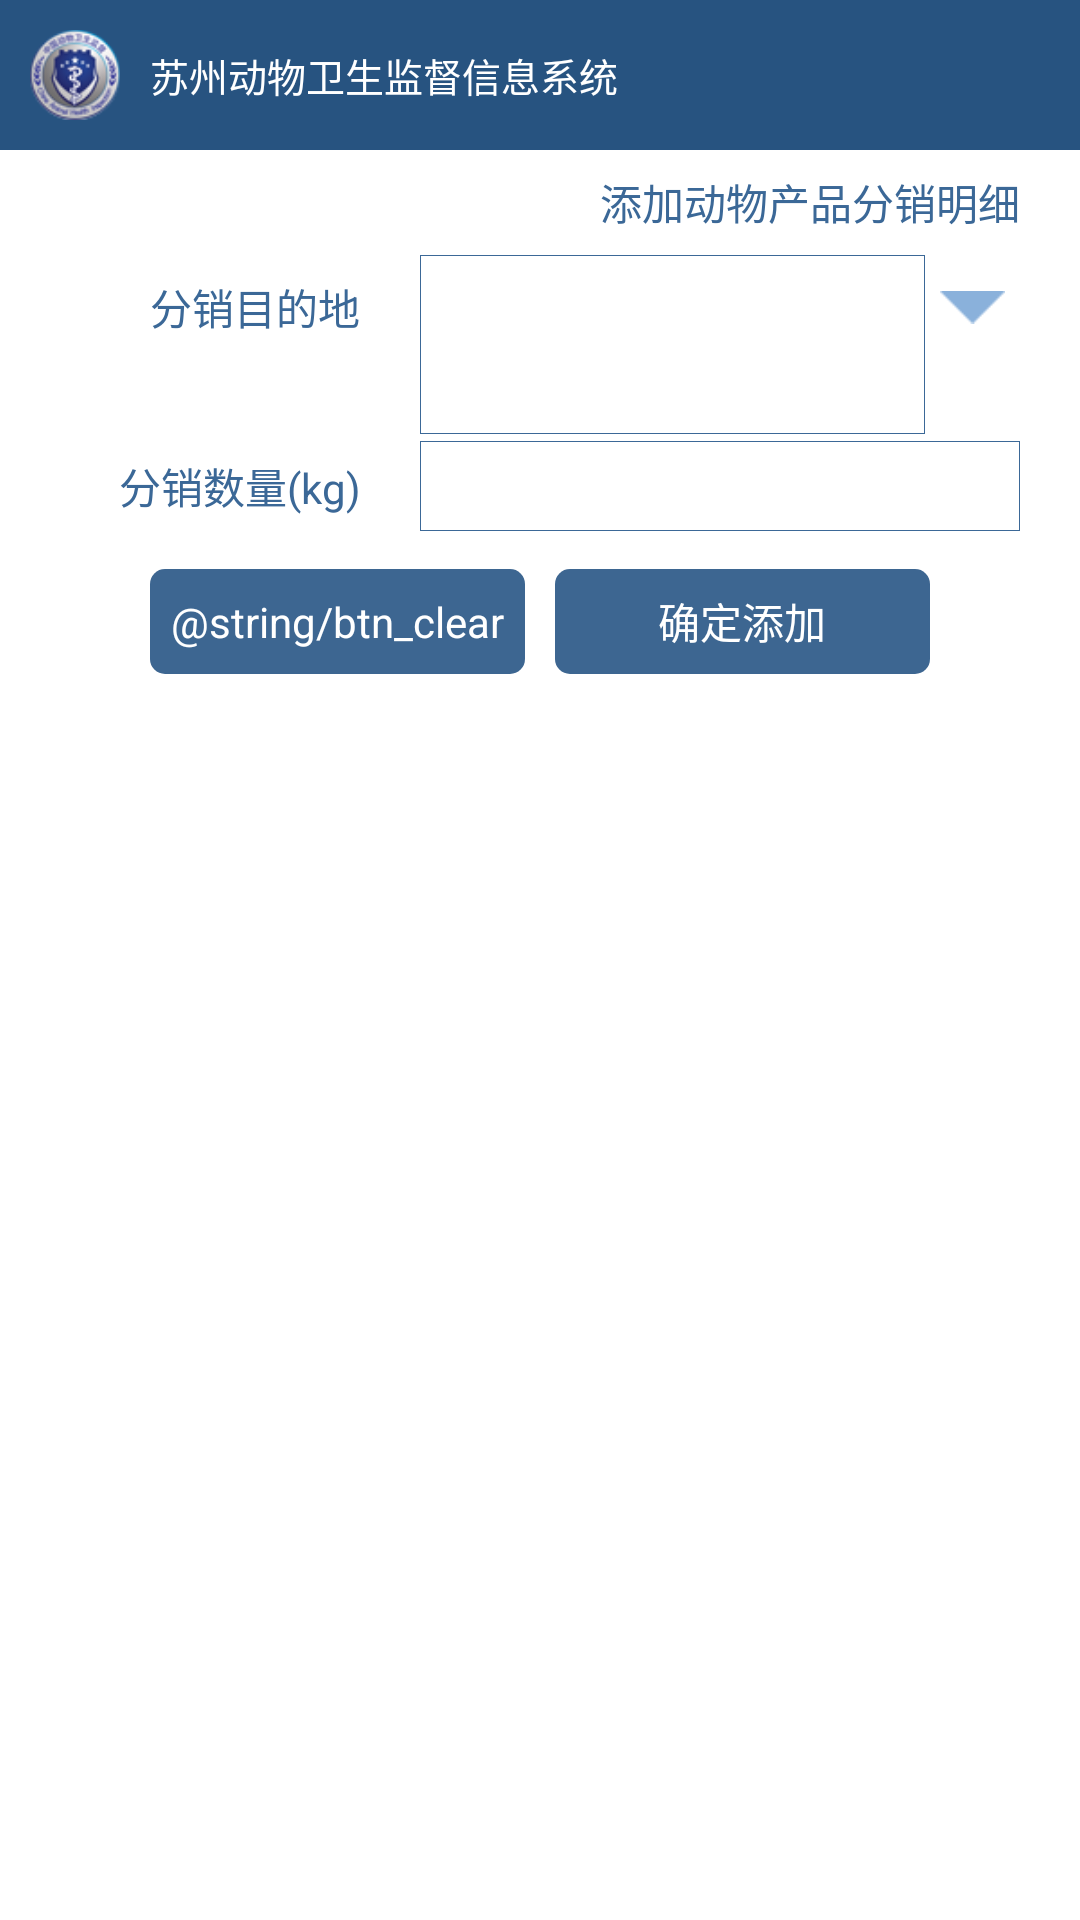

Named icons in this screenshot (1080×1920) and their bounding boxes, (x1, y1, x2, y2):
arrow spinner: (940, 291, 1005, 324)
